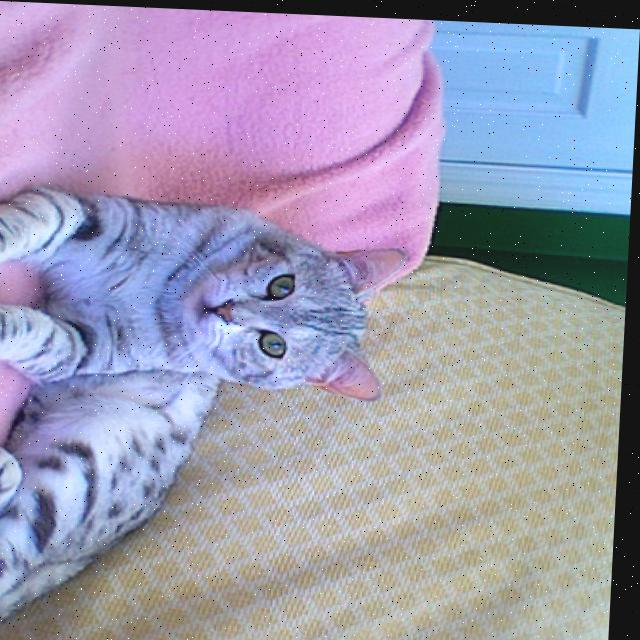Egyptian Mau: (0, 182, 427, 640)
